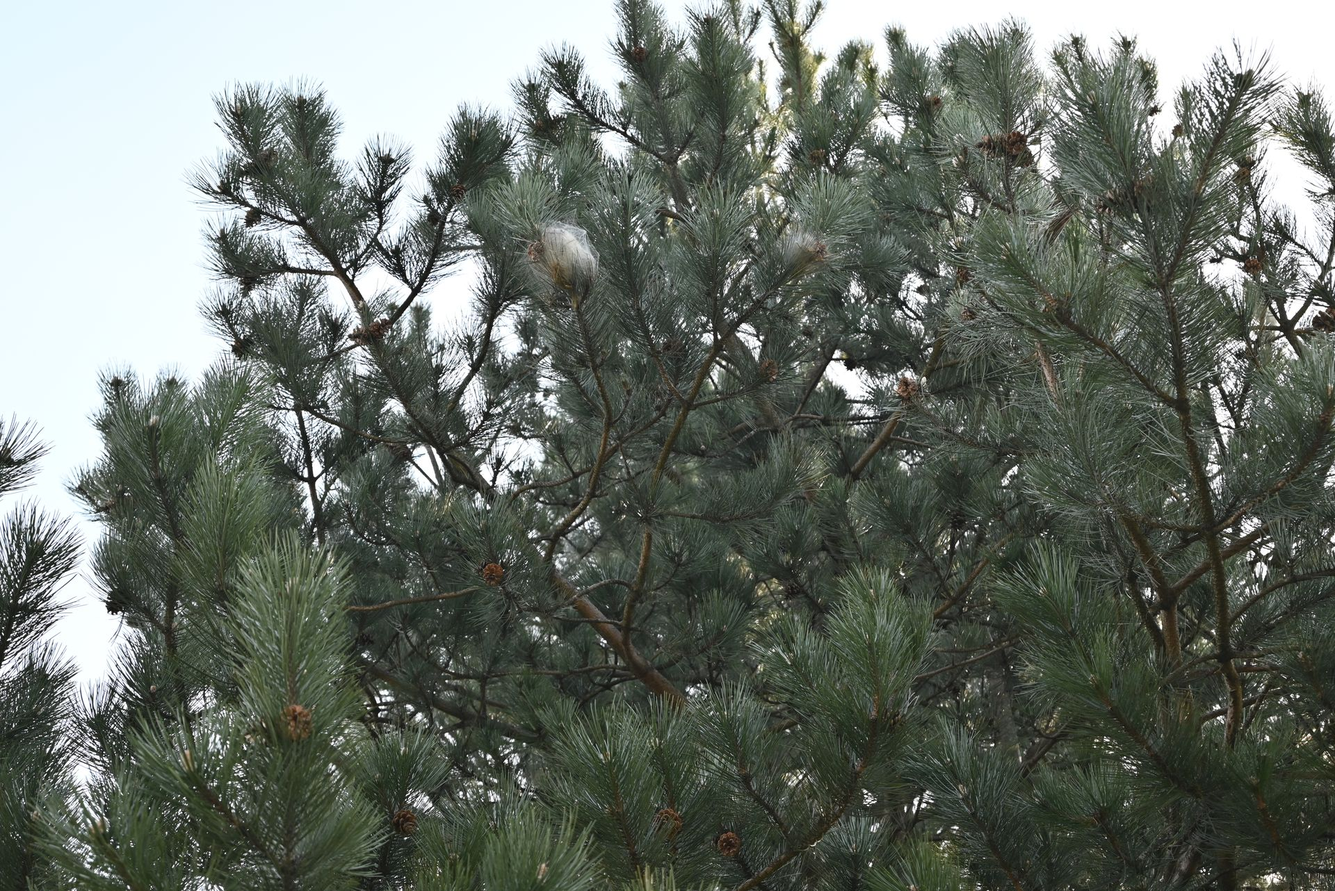thaumatopoea pityocampa jajno gnijezdo: (519, 216, 601, 307), (779, 226, 838, 281)
